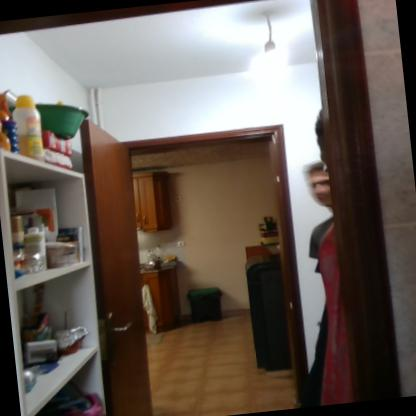open: (81, 93, 326, 416)
